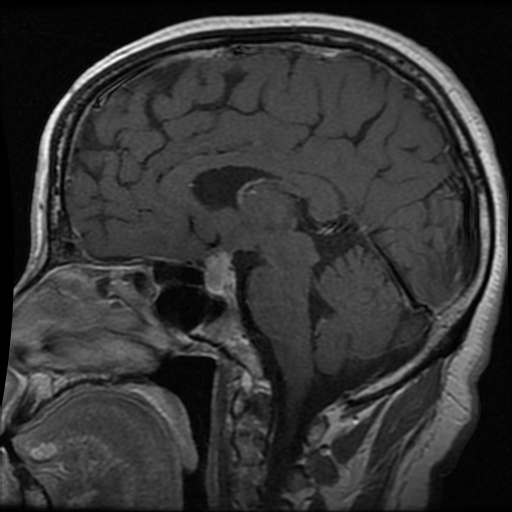pituitary: (206, 252, 233, 296)
